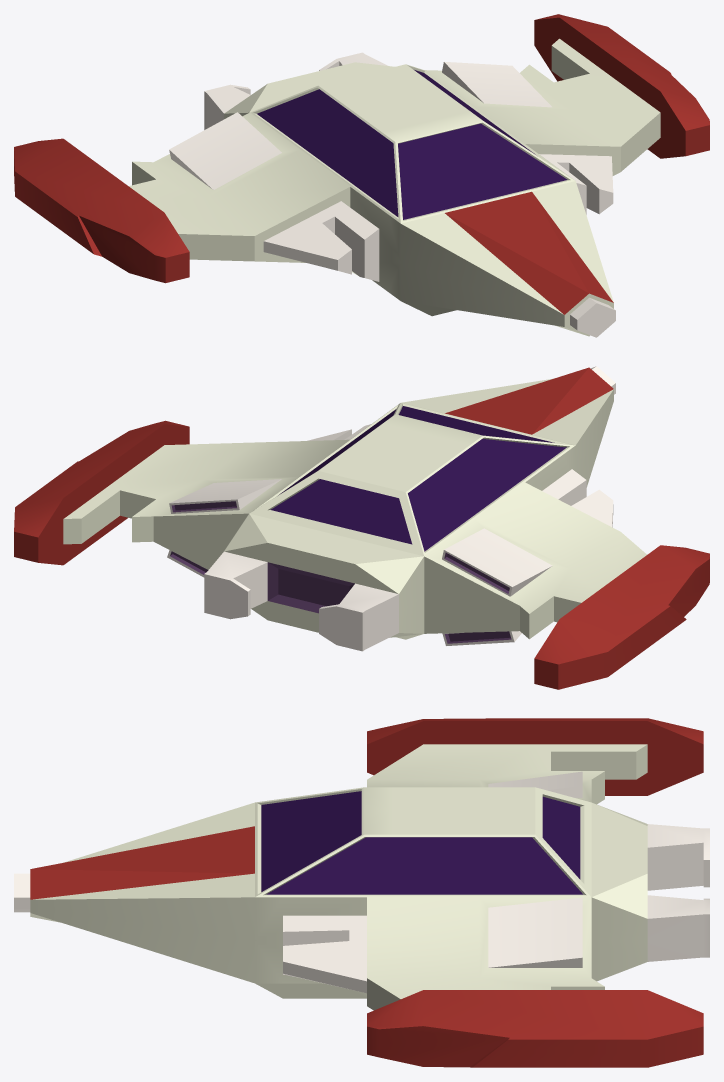
File: wintershippainted.fbx
The picture shows the model from 3 angles, top to bottom: view 1: azimuth 30°, elevation 25°; view 2: azimuth 150°, elevation 25°; view 3: azimuth 270°, elevation 25°; orthographic projection. The views are drawn at different scales.
Parts seen in each view (by area): view 1: Cube; view 2: Cube; view 3: Cube.
Part boxes in pixels (x1,y1,x2,y2): Cube: [14, 14, 709, 337]; Cube: [14, 366, 709, 689]; Cube: [14, 718, 709, 1067].
Size of the model in its own units: 678 by 161 by 620.
